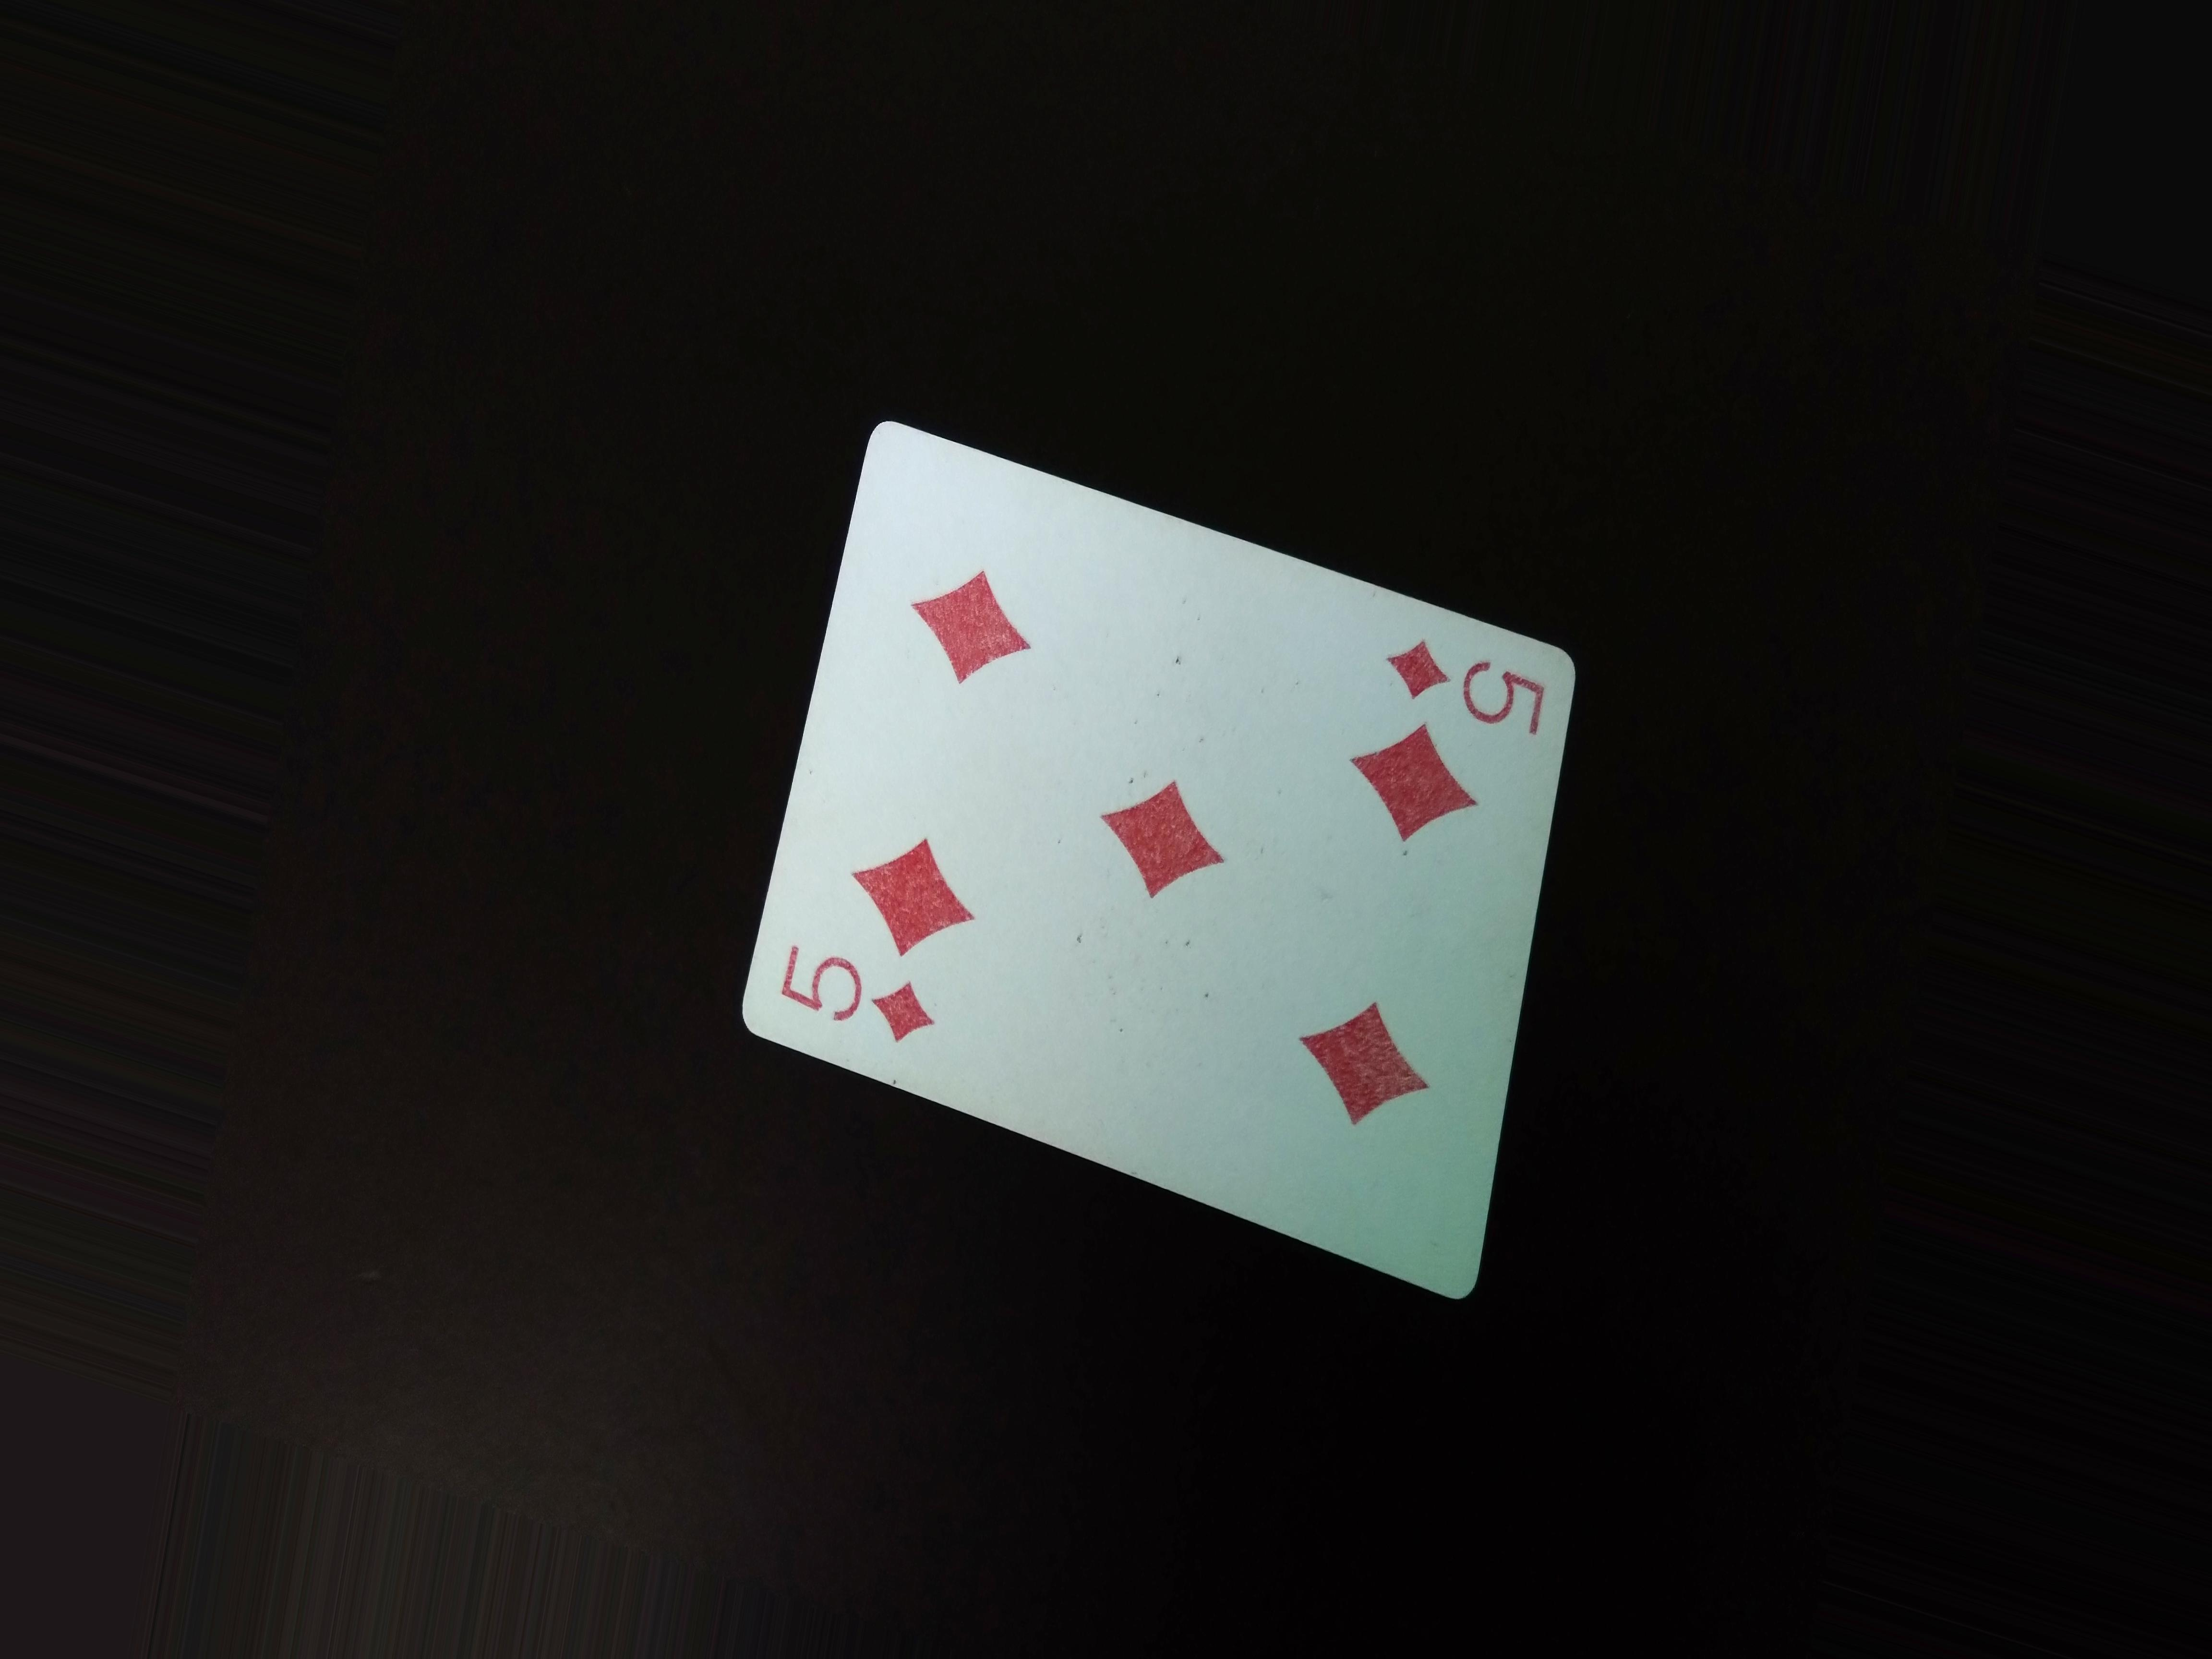5D: (765, 932, 956, 1058)
